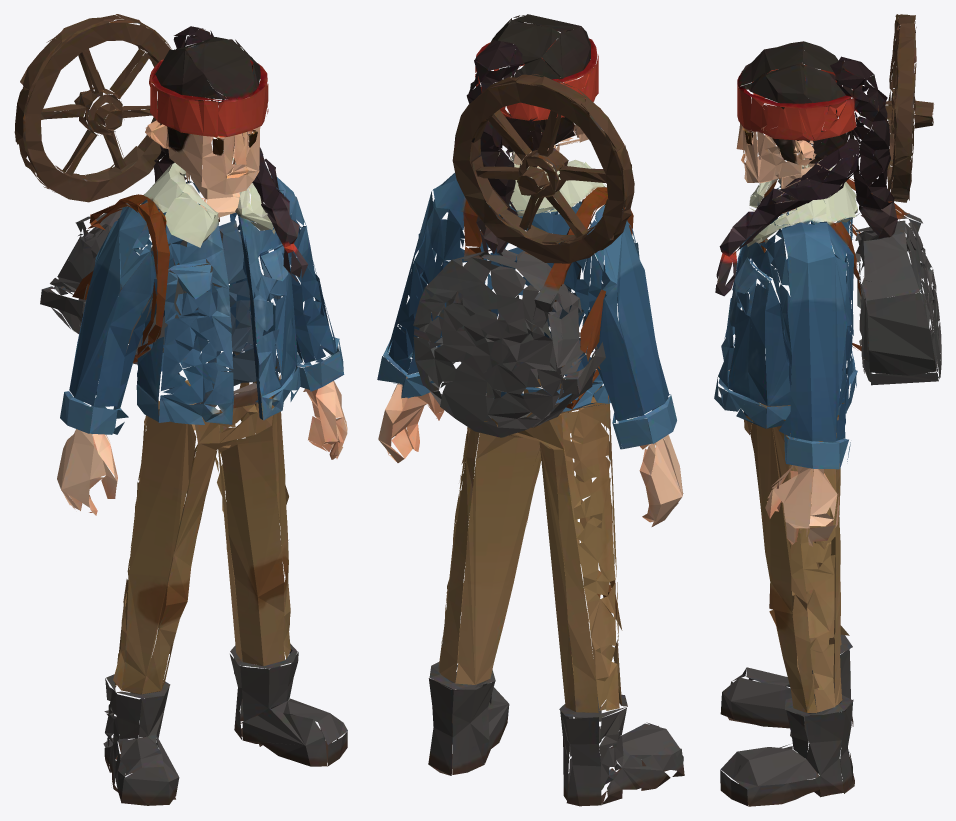
Rendered from habitant.glb.
The picture shows the model from 3 angles, left to right: view 1: azimuth 30°, elevation 25°; view 2: azimuth 150°, elevation 25°; view 3: azimuth 270°, elevation 25°; orthographic projection. The views are drawn at different scales.
Parts seen in each view (by area): view 1: world; view 2: world; view 3: world.
Part boxes in pixels (<box>): world: <box>14,14,347,805</box>; world: <box>377,14,684,806</box>; world: <box>714,14,941,806</box>.
Bounding box in the file's own units: 0.4174 × 1 × 0.2916.
Materials: 1 (1 with a texture image).
